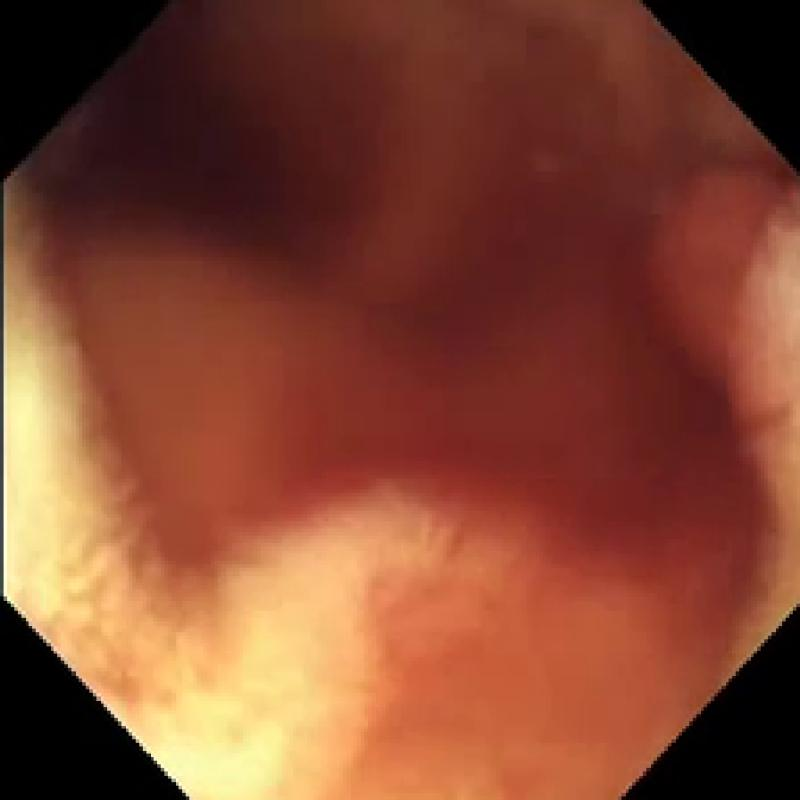bleeding: (35, 3, 796, 800)
